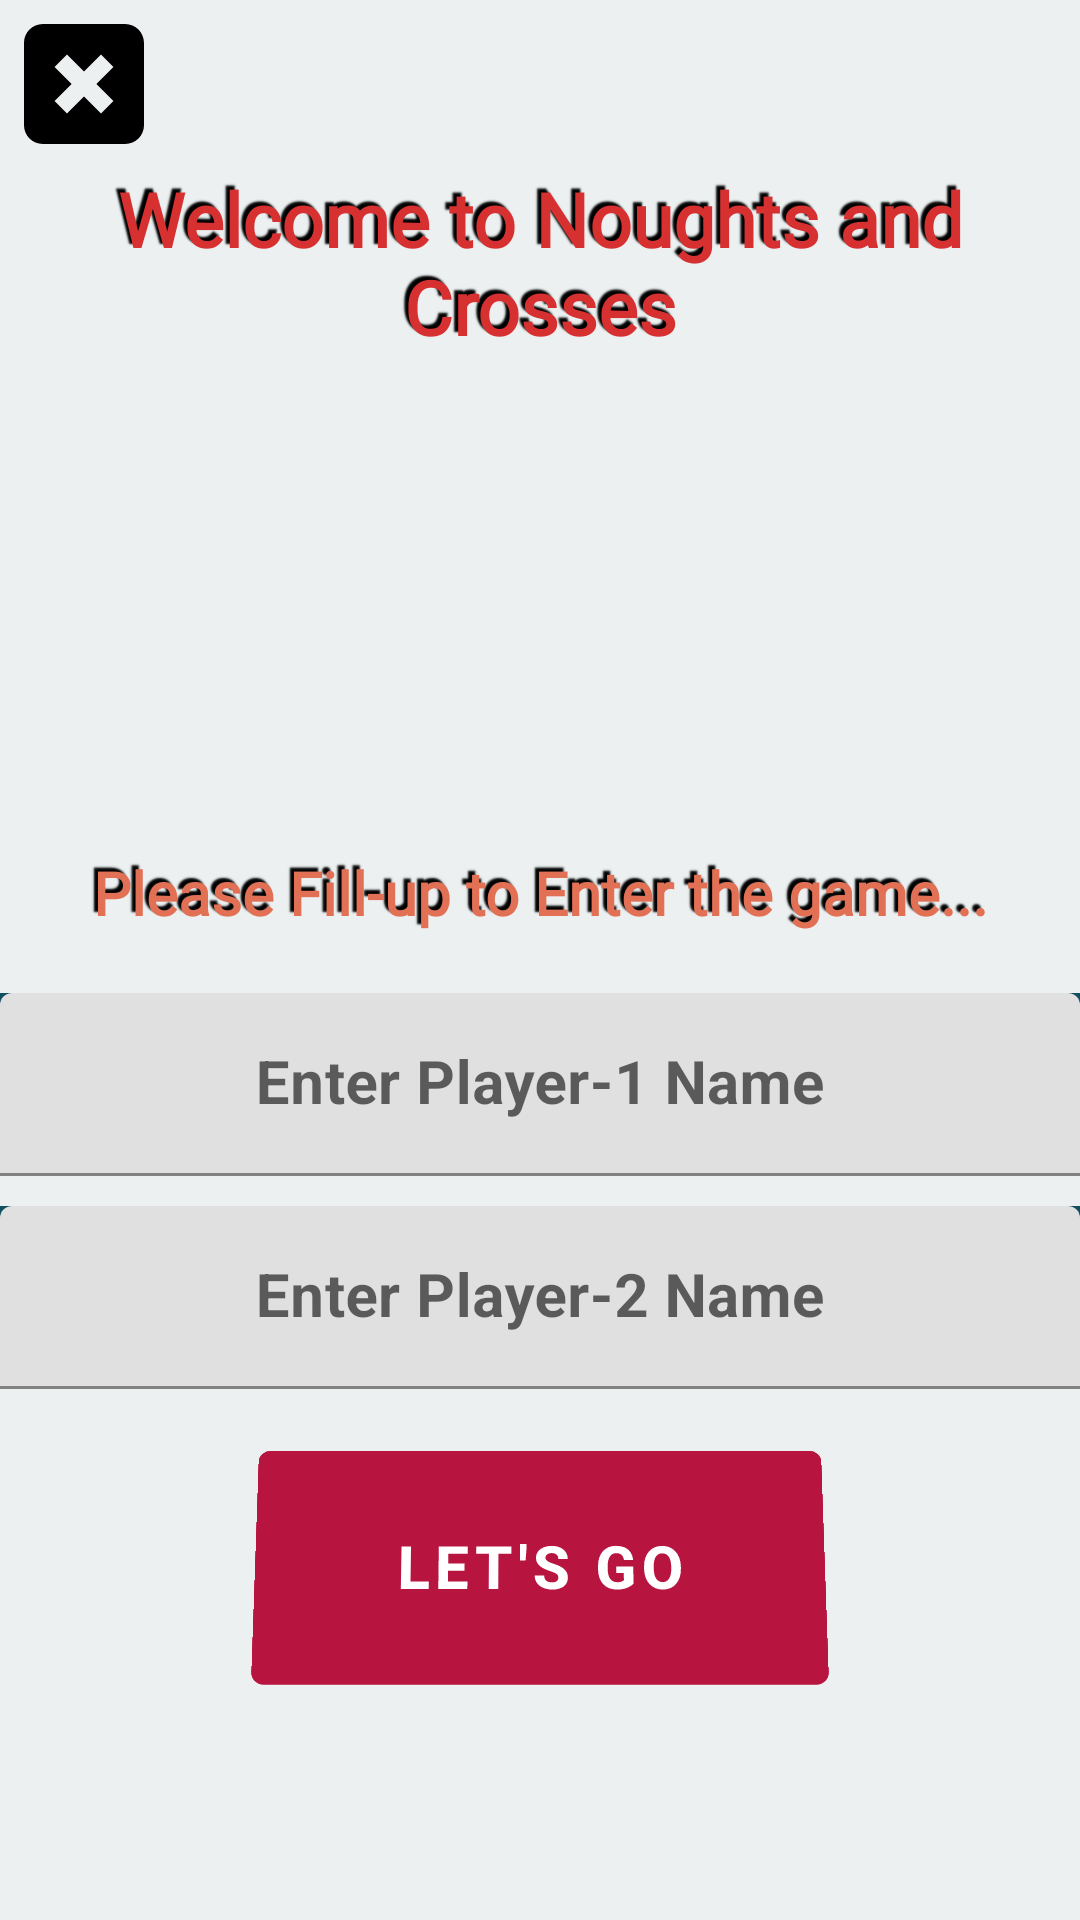

Icon click points for this 1080 x 1920 phone screenshot, format (x,y):
croissit: (84,84)
